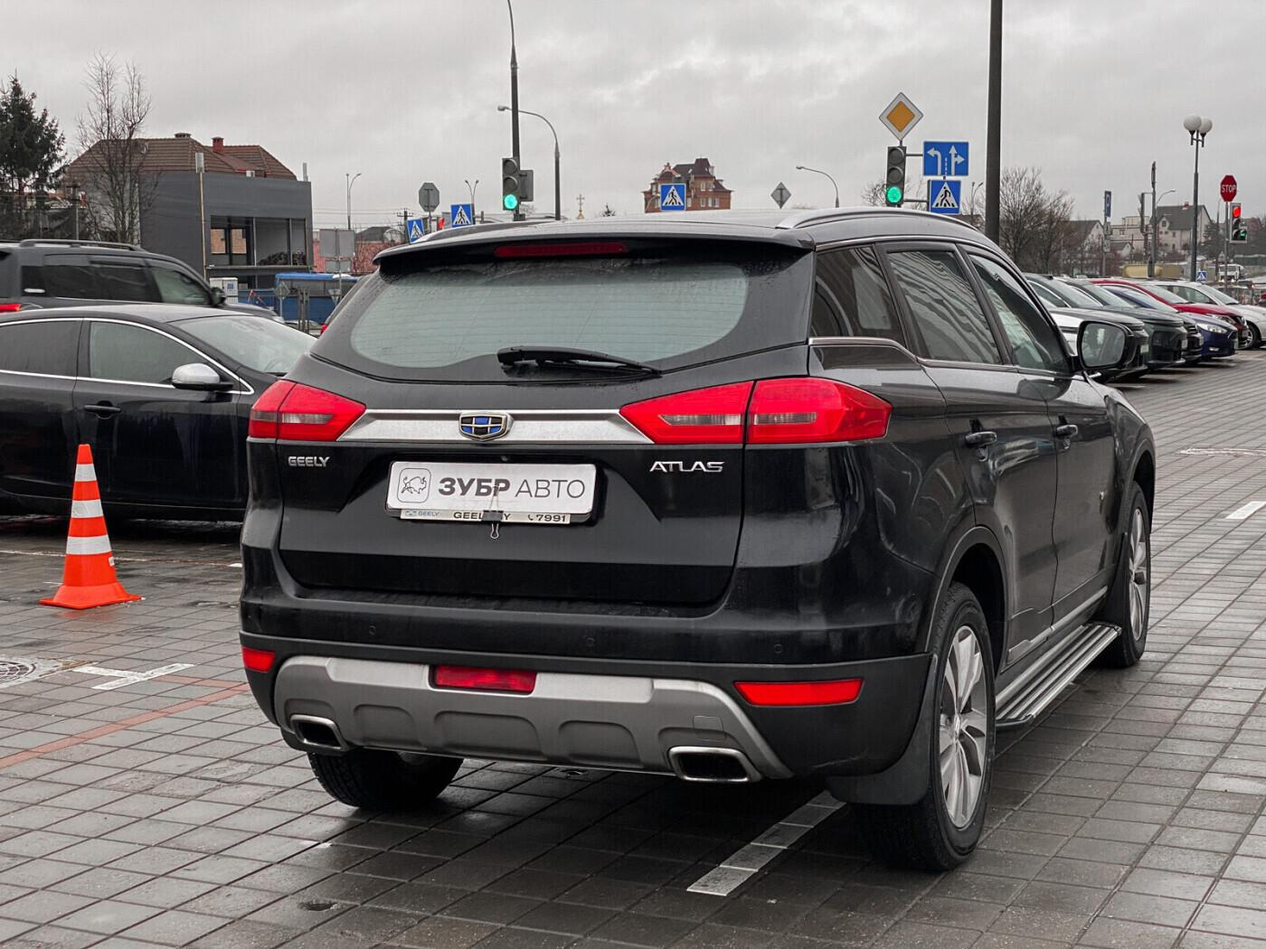Atlas_2016-2023: (235, 201, 1159, 886)
